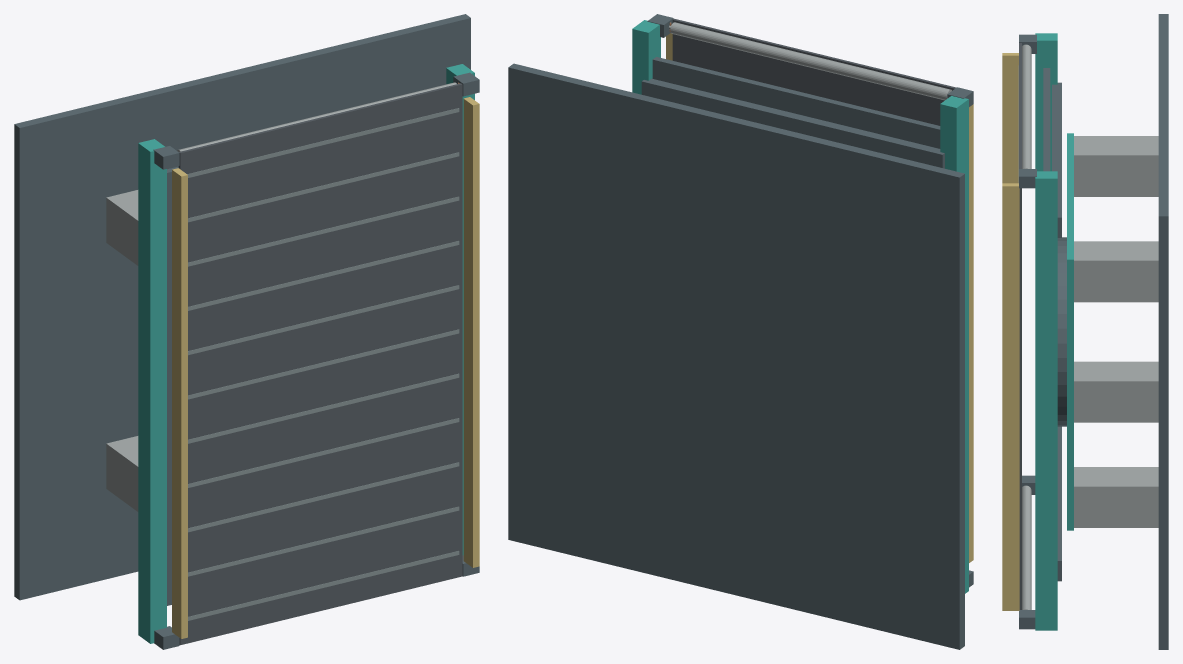
3 renders of one model, left to right at view 1: azimuth 30°, elevation 25°; view 2: azimuth 150°, elevation 25°; view 3: azimuth 270°, elevation 25°, orthographic. The views are drawn at different scales.
Parts seen in each view (by area): view 1: corner_belt_contact, corner_base_spreader, corner_rotor_frame1, corner_rotor_guard-1, corner_rotor_guard1, corner_rotor_rotor_support_plate, corner_base_guide_0_x-1, corner_base_guide_1_x-1, corner_belt_texture_-0.360, corner_belt_texture_0.270, corner_belt_texture_-0.450, corner_belt_texture_-0.270 (+9 smaller); view 2: corner_base_spreader, corner_belt_contact, corner_rotor_rotor_support_plate, corner_rotor_crossmember0.38, corner_rotor_frame1, corner_belt_front_drum, corner_rotor_guard1, corner_rotor_frame-1; view 3: corner_rotor_frame-1, corner_rotor_guard-1, corner_base_spreader, corner_base_guide_3_x1, corner_base_guide_0_x1, corner_base_guide_1_x1, corner_base_guide_2_x1, corner_stage_3_crossplate, corner_rotor_guard1, corner_rotor_frame1, corner_stage_3_bearing_outer, corner_belt_contact (+11 smaller).
Boxes of the visible parts, x1,y1,x2,y2 form: corner_belt_contact: (178,83,462,645); corner_base_spreader: (14,14,470,600); corner_rotor_frame1: (138,139,166,643); corner_rotor_guard-1: (463,97,479,567); corner_rotor_guard1: (172,168,187,638); corner_rotor_rotor_support_plate: (167,166,178,605); corner_base_guide_0_x-1: (106,443,138,511); corner_base_guide_1_x-1: (106,197,138,265); corner_belt_texture_-0.360: (188,506,459,576); corner_belt_texture_0.270: (188,196,459,266); corner_belt_texture_-0.450: (188,551,459,620); corner_belt_texture_-0.270: (188,462,459,532); corner_base_spreader: (508,63,964,649); corner_belt_contact: (672,18,956,125); corner_rotor_rotor_support_plate: (652,57,940,148); corner_rotor_crossmember0.38: (641,78,944,168); corner_rotor_frame1: (940,96,968,593); corner_belt_front_drum: (670,22,951,100); corner_rotor_guard1: (969,104,973,562); corner_rotor_frame-1: (632,20,660,94); corner_rotor_frame-1: (1035,171,1057,630); corner_rotor_guard-1: (1002,183,1019,610); corner_base_spreader: (1158,14,1168,649); corner_base_guide_3_x1: (1074,259,1158,302); corner_base_guide_0_x1: (1074,380,1158,422); corner_base_guide_1_x1: (1074,154,1158,196); corner_base_guide_2_x1: (1074,485,1158,527); corner_stage_3_crossplate: (1067,133,1073,530); corner_rotor_guard1: (1002,53,1018,183); corner_rotor_frame1: (1035,33,1057,171); corner_stage_3_bearing_outer: (1057,237,1066,426); corner_belt_contact: (1019,43,1021,609).
Size of the model in its own units: 0.96 by 1 by 0.3335.
